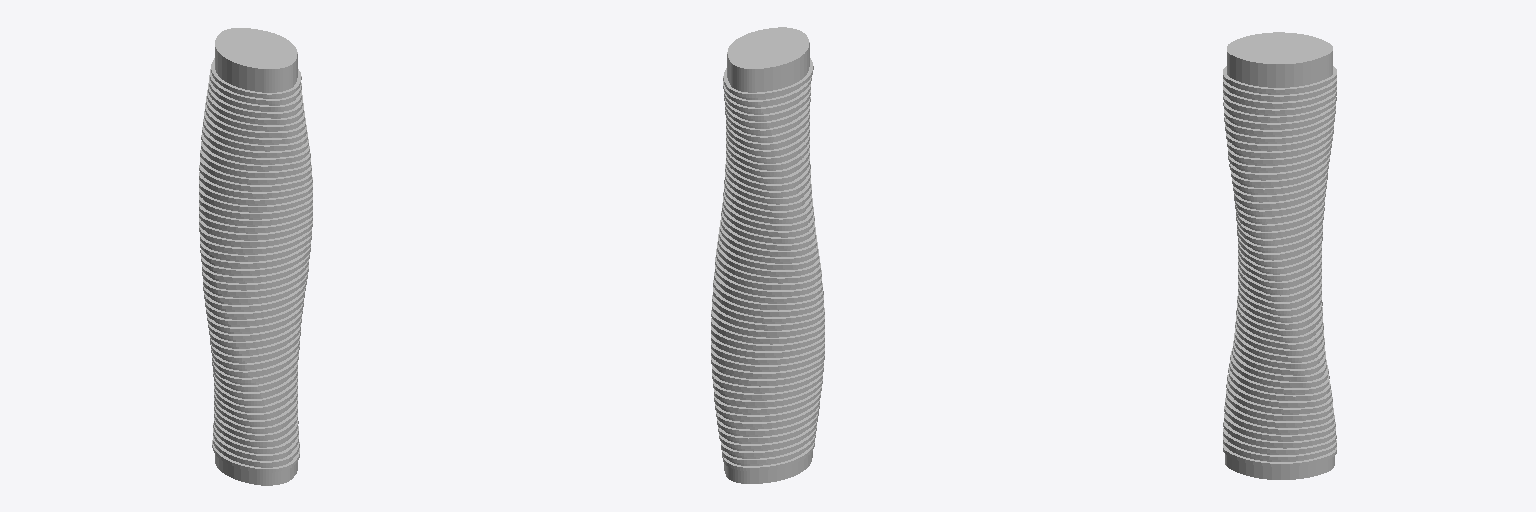
File: ABSOLUTEWORLD_norm.obj
3 views of the same model, side by side, from view 1: azimuth 30°, elevation 25°; view 2: azimuth 150°, elevation 25°; view 3: azimuth 270°, elevation 25° (orthographic).
Bounding box in the file's own units: 0.4773 × 1.91 × 0.4773.